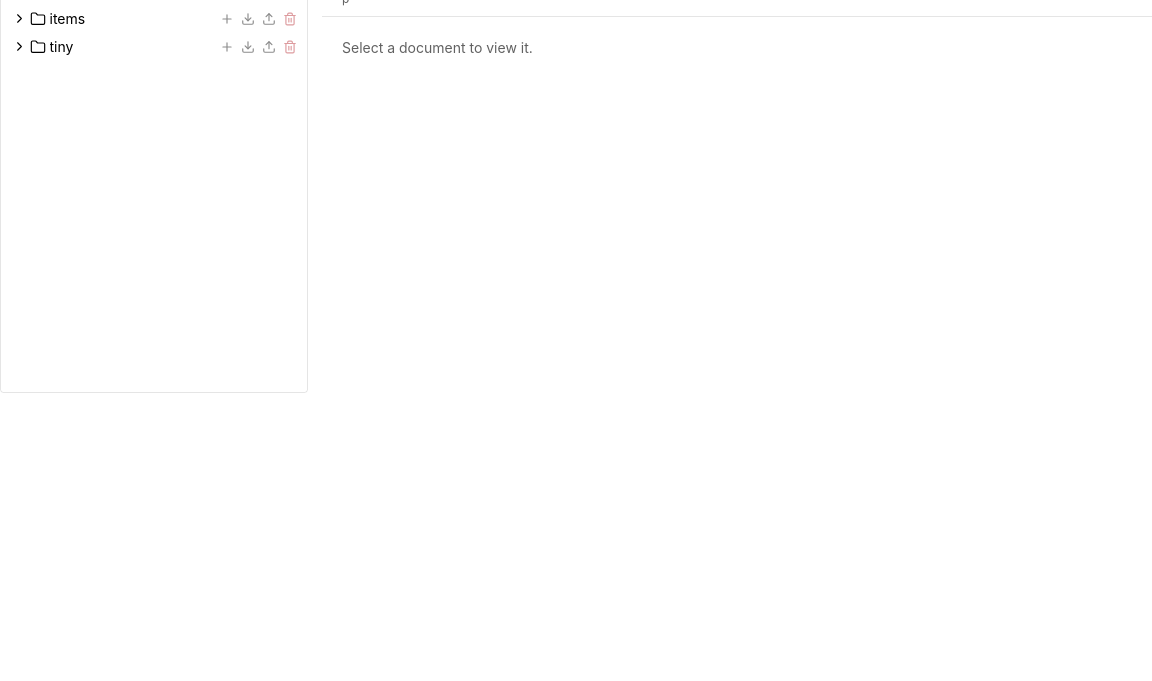
Test: FirestoreBrowser › marks missing documents and loads subcollections lazily on doc expand
Click the button with test id "collection:items" at (112, 18), box [8,4,216,32]
(page scrolled)
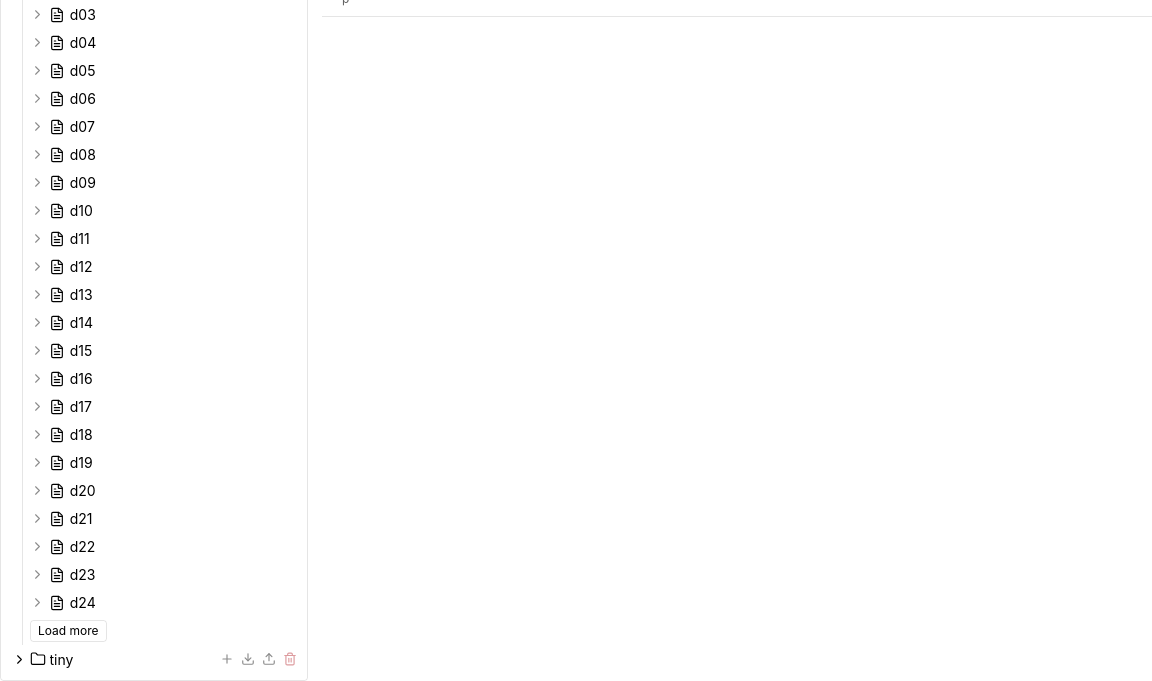
Click the button with test id "load-more:items" at (68, 631), box [30,620,107,642]
(page scrolled)
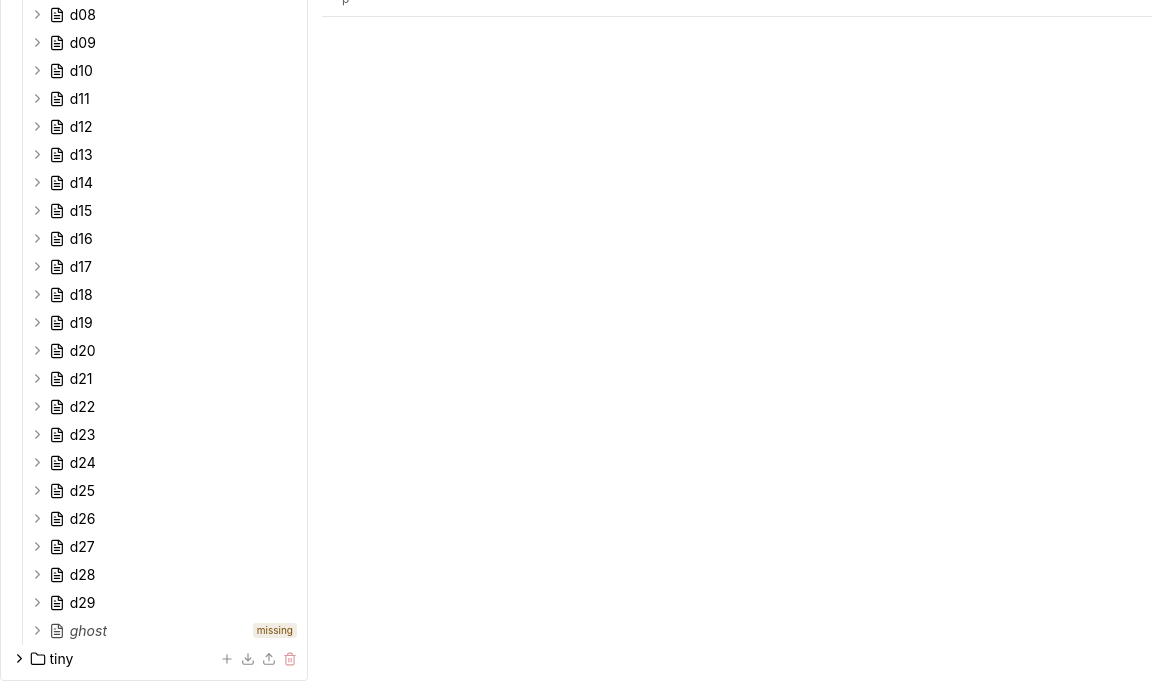
Expected: the button with test id "doc:items/ghost" is shown, [48,616,253,644]
Expected: the text "missing" is shown, [253,623,296,638]
